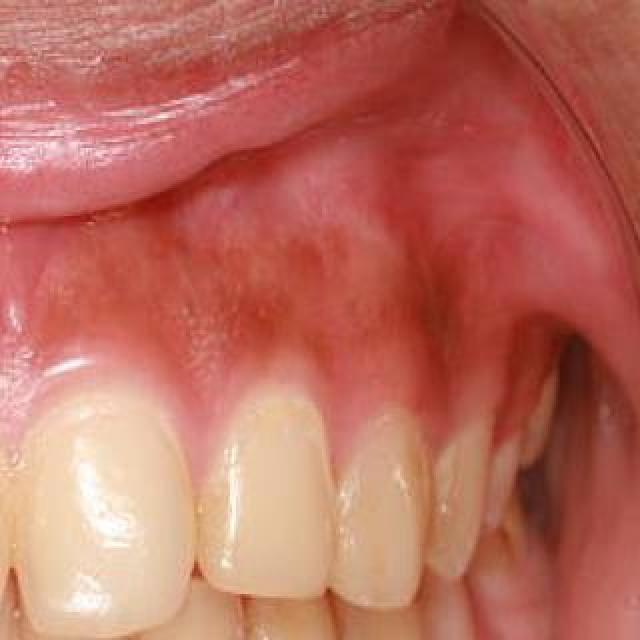plaque: (231, 380, 357, 548), (340, 403, 428, 595), (415, 425, 473, 559), (348, 602, 438, 640), (124, 612, 244, 640), (4, 612, 116, 640), (256, 606, 342, 640), (0, 620, 16, 640)
